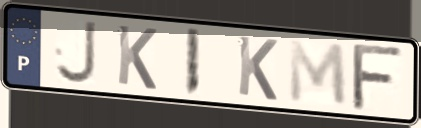F: (349, 42, 408, 113)
I: (182, 26, 203, 99)
J: (53, 18, 99, 87)
K: (235, 33, 280, 104), (115, 22, 160, 93)
M: (286, 37, 350, 110)
